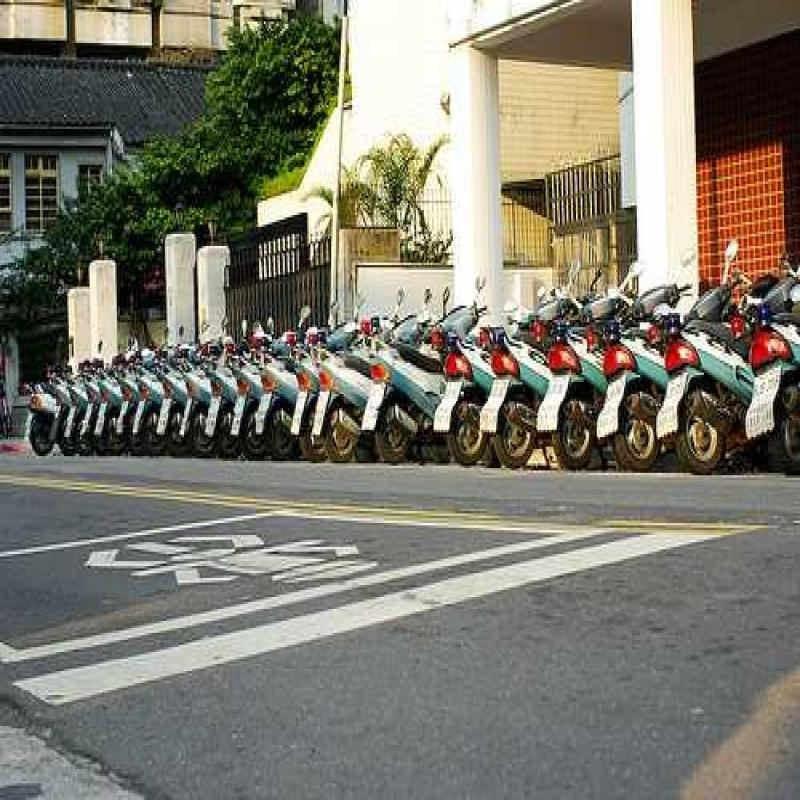bike: (661, 297, 752, 469), (362, 297, 454, 458), (536, 306, 604, 468), (749, 258, 800, 470), (608, 314, 676, 463), (486, 318, 539, 484), (444, 326, 497, 469), (319, 331, 364, 476), (290, 331, 326, 456), (246, 352, 293, 446), (229, 358, 260, 458), (179, 351, 210, 450)
